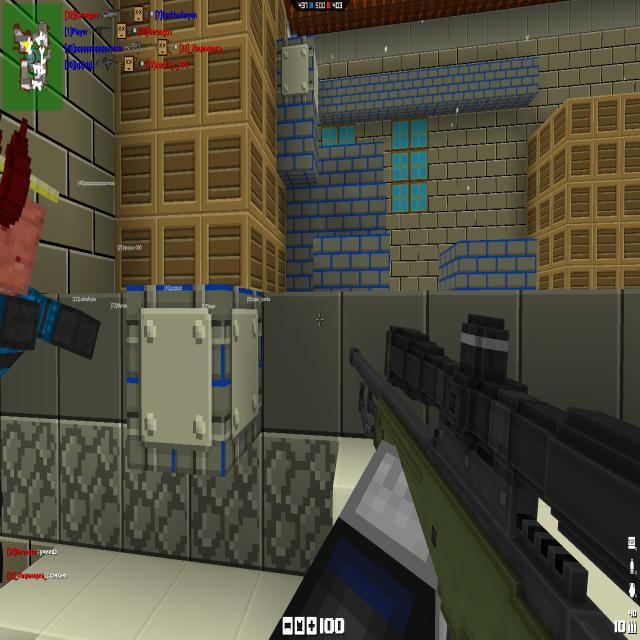player: (0, 119, 100, 375)
